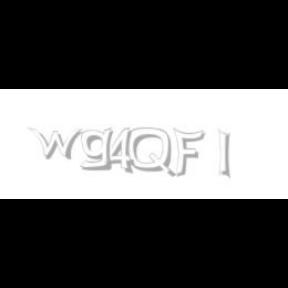4: (104, 128, 136, 174)
F: (172, 128, 204, 178)
I: (218, 128, 232, 180)
Q: (128, 128, 174, 178)
g: (80, 128, 118, 171)
w: (29, 128, 88, 160)
